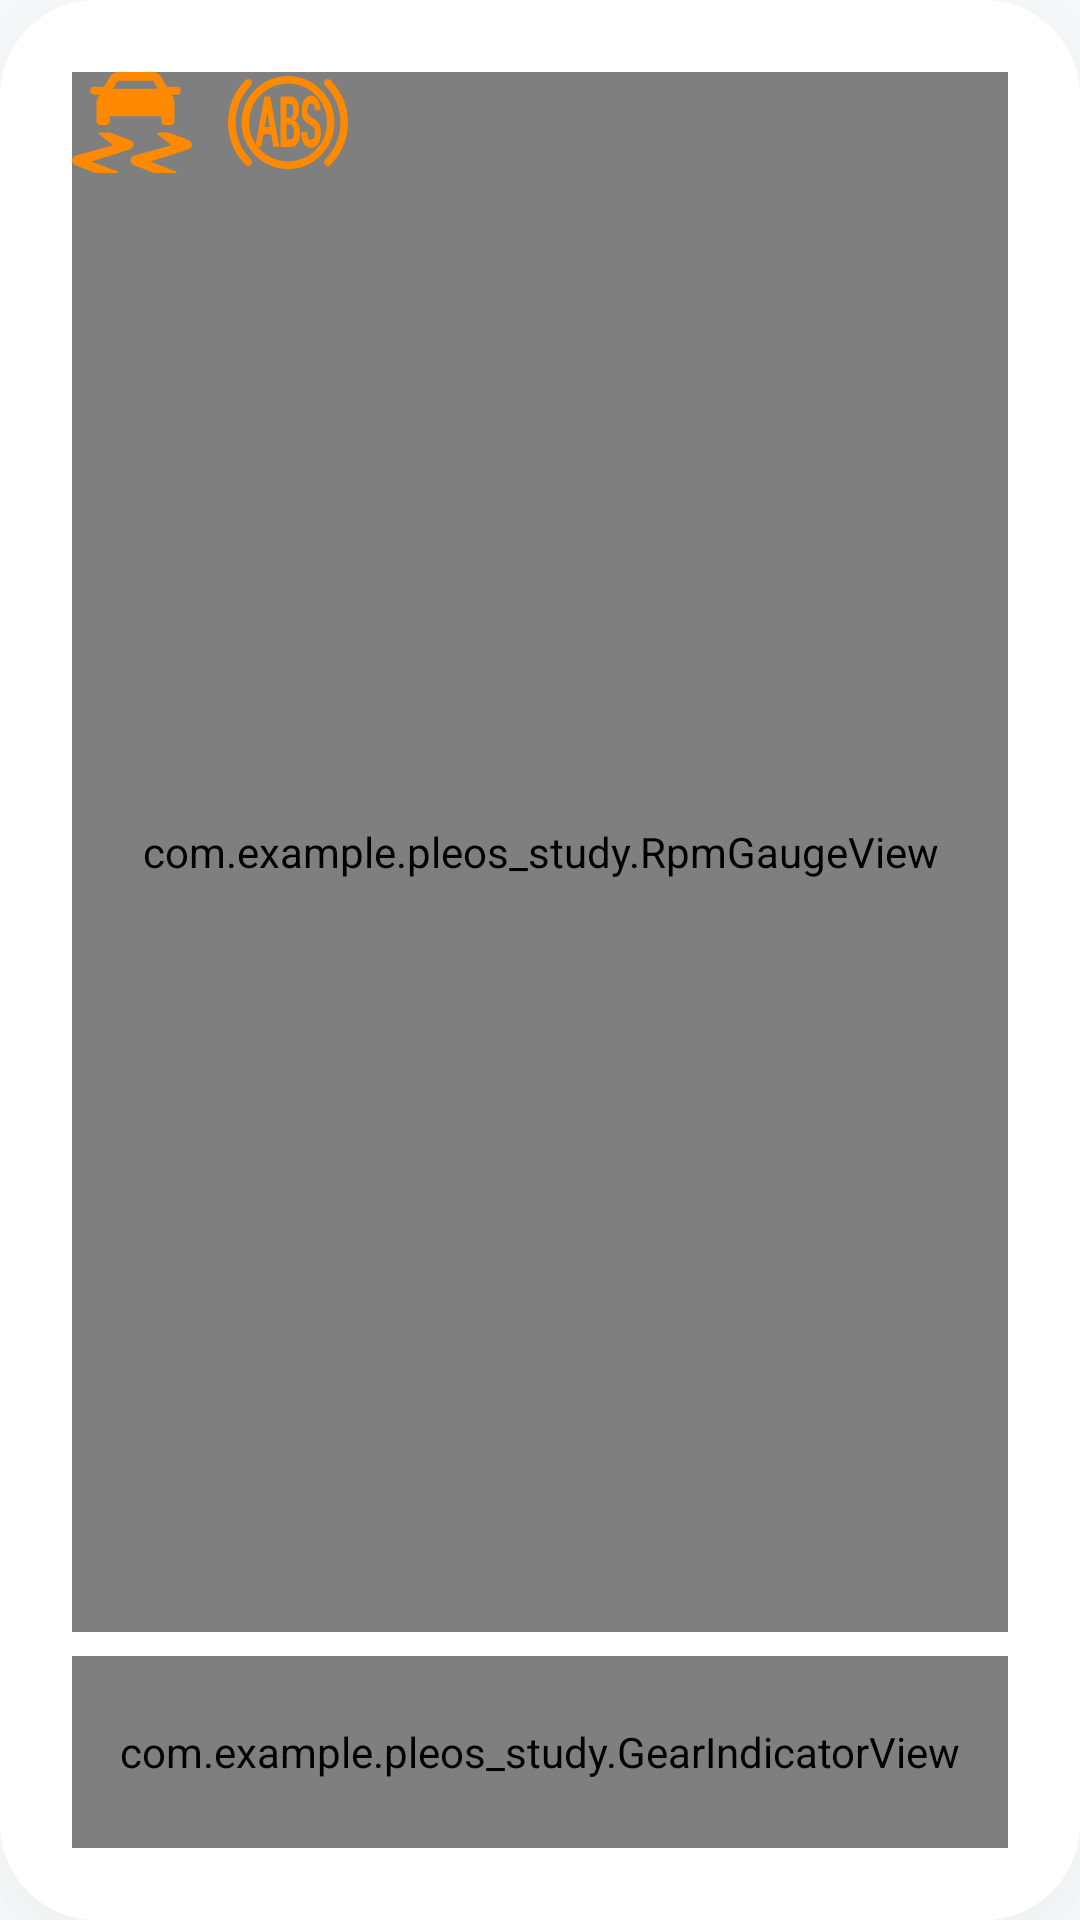

Where to tap for icons on this 1080px x 1920px app screen, as point (x, y):
트랙션 컨트롤: point (132, 122)
